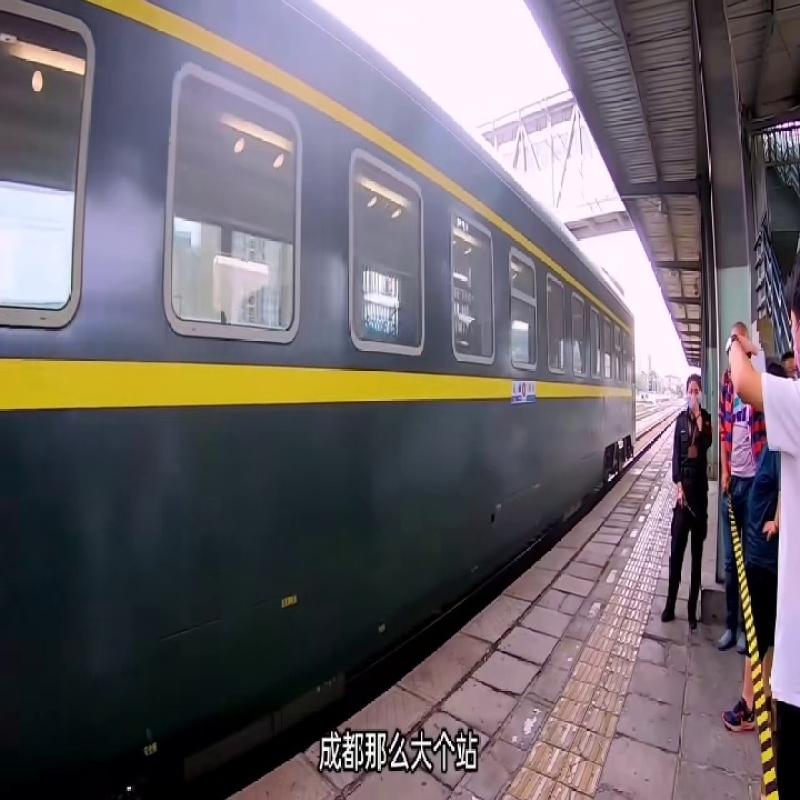train: (470, 168, 636, 480)
